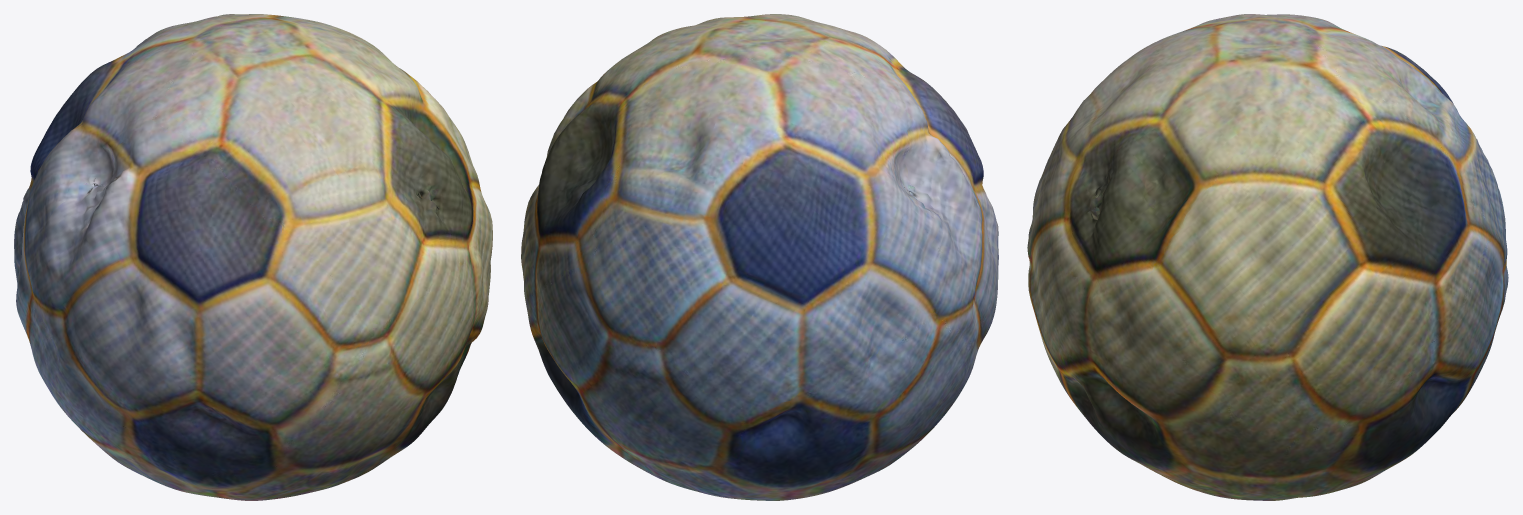
File: card_5.glb
3 renders of one model, left to right at view 1: azimuth 30°, elevation 25°; view 2: azimuth 150°, elevation 25°; view 3: azimuth 270°, elevation 25°, orthographic.
Visible parts, largest first — view 1: Mesh1; view 2: Mesh1; view 3: Mesh1.
Boxes of the visible parts, <box> form: Mesh1: <box>14,14,492,500</box>; Mesh1: <box>521,14,998,500</box>; Mesh1: <box>1027,14,1508,500</box>.
Bounding box in the file's own units: 1.19 × 1.2 × 1.19.
Materials: 1 (1 with a texture image).
